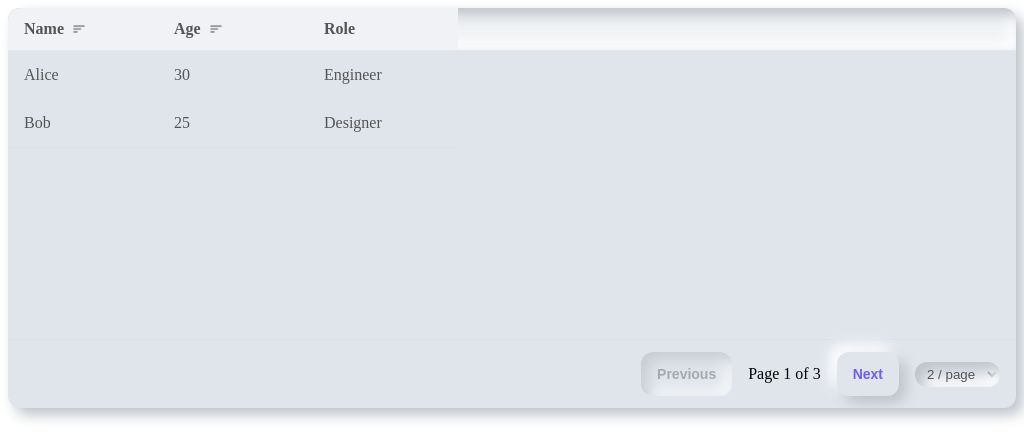
DataGrid › shows correct number of rows per page and paginates
Expected: the text "Page 1 of 3" is shown, [748,365,821,383]
Expected: the button with aria-label "previous page" is disabled, [641,352,732,396]
What coordinates should you click on to do the following:
click the button with aria-label "next page"
I would click on:
 (868, 374)
Its box is [837,352,899,396].
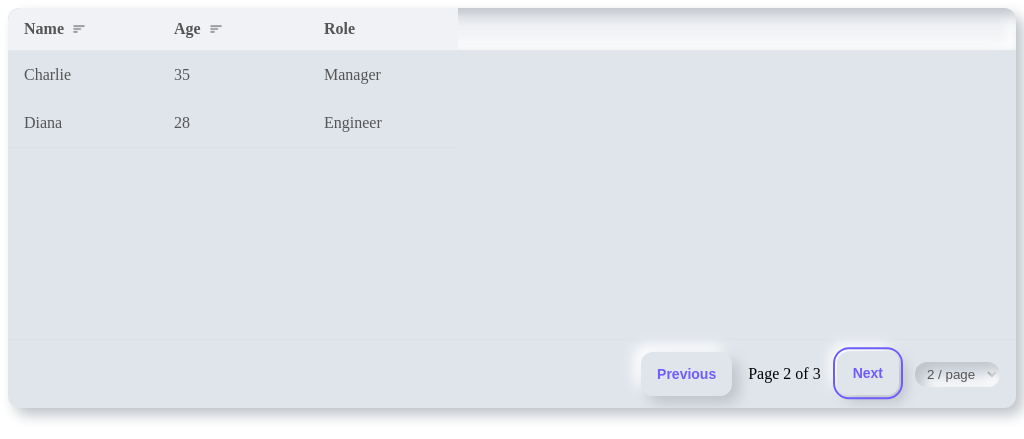
Expected: the text "Page 2 of 3" is shown, [748,365,821,383]
Expected: the button with aria-label "previous page" is enabled, [641,352,732,396]
// Re-query next button before second click to avoid stale element
What coordinates should you click on to do the following:
click the button with aria-label "next page"
I would click on:
 (868, 373)
Its box is [837,351,899,395].
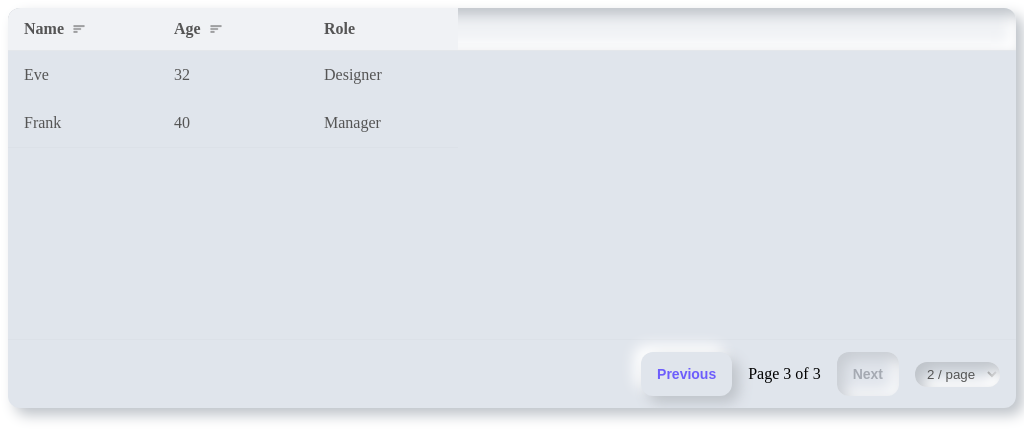
Expected: the text "Page 3 of 3" is shown, [748,365,821,383]
Expected: the button with aria-label "next page" is disabled, [837,352,899,396]
